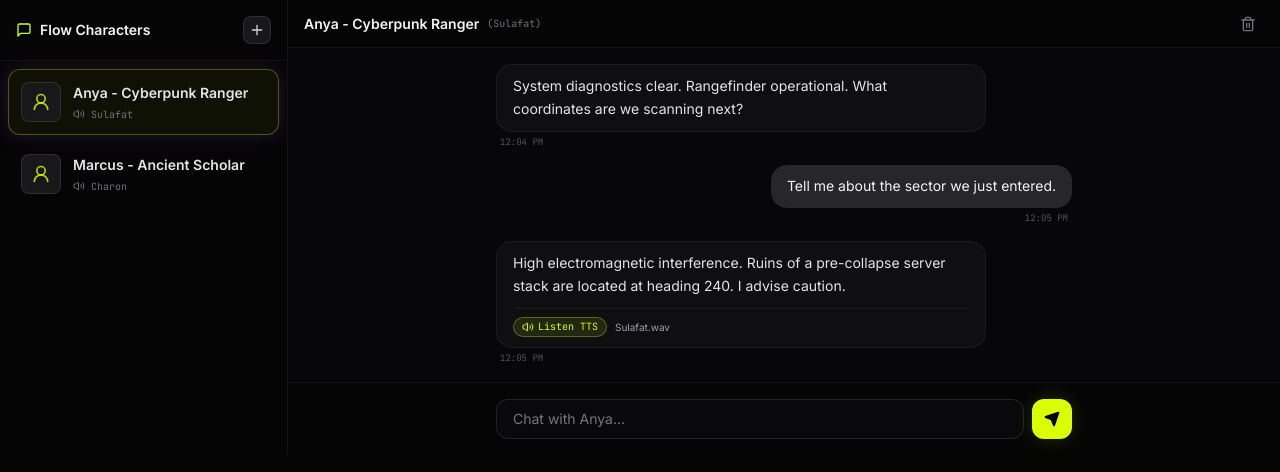
Test case: ChatPanel › should delete selected character and switch to remaining
Expected: the text "Anya - Cyberpunk Ranger" below "Flow Characters" is shown, [73,84,248,100]
Delete character
Click the button titled "Delete Character". click: {"x": 1248, "y": 24}
box: [1232,8,1264,40]
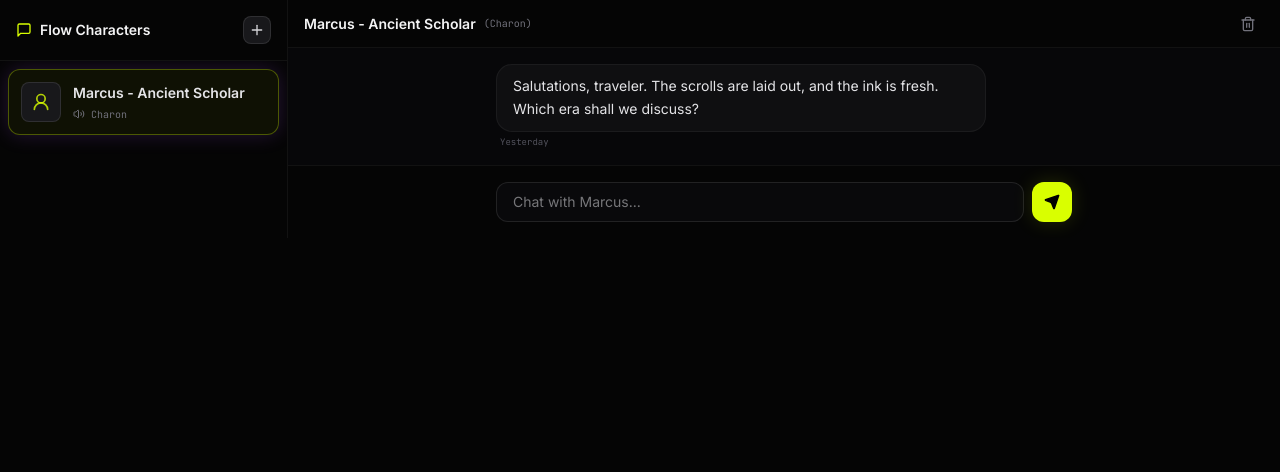
Expected: the text "Marcus - Ancient Scholar" below "Flow Characters" is shown, [73,84,245,100]
Expected: the button "Anya - Cyberpunk Ranger" is gone
